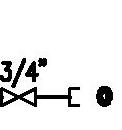valve: (1, 56, 38, 108)
